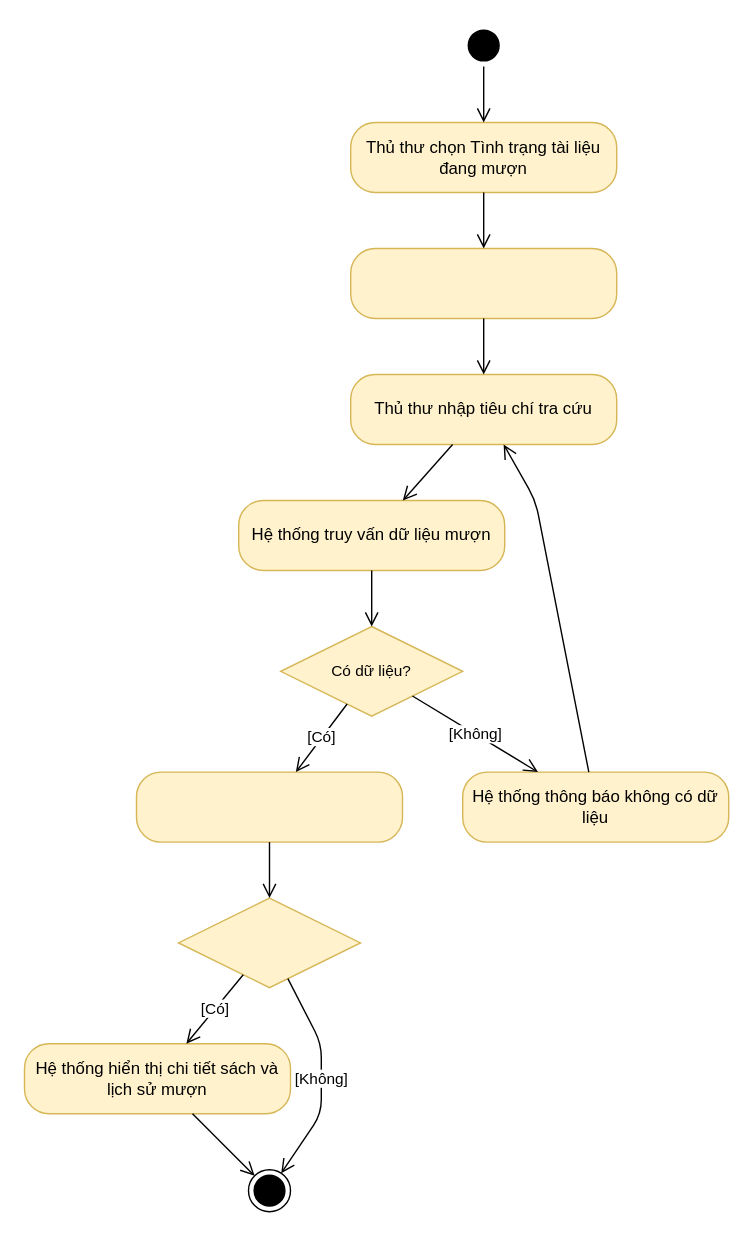
Some shapes in this 753 by 1236 pixel diagram are drawn without their labels. The box of each missing label's shape, as (x1, y1, x2, y2) in pixels:
Hệ thống hiển thị danh sách sách đang mượn, quá hạn: (135, 771, 402, 842)
Hệ thống hiển thị form tra cứu: (349, 247, 617, 318)
Xem chi tiết?: (177, 897, 360, 988)
